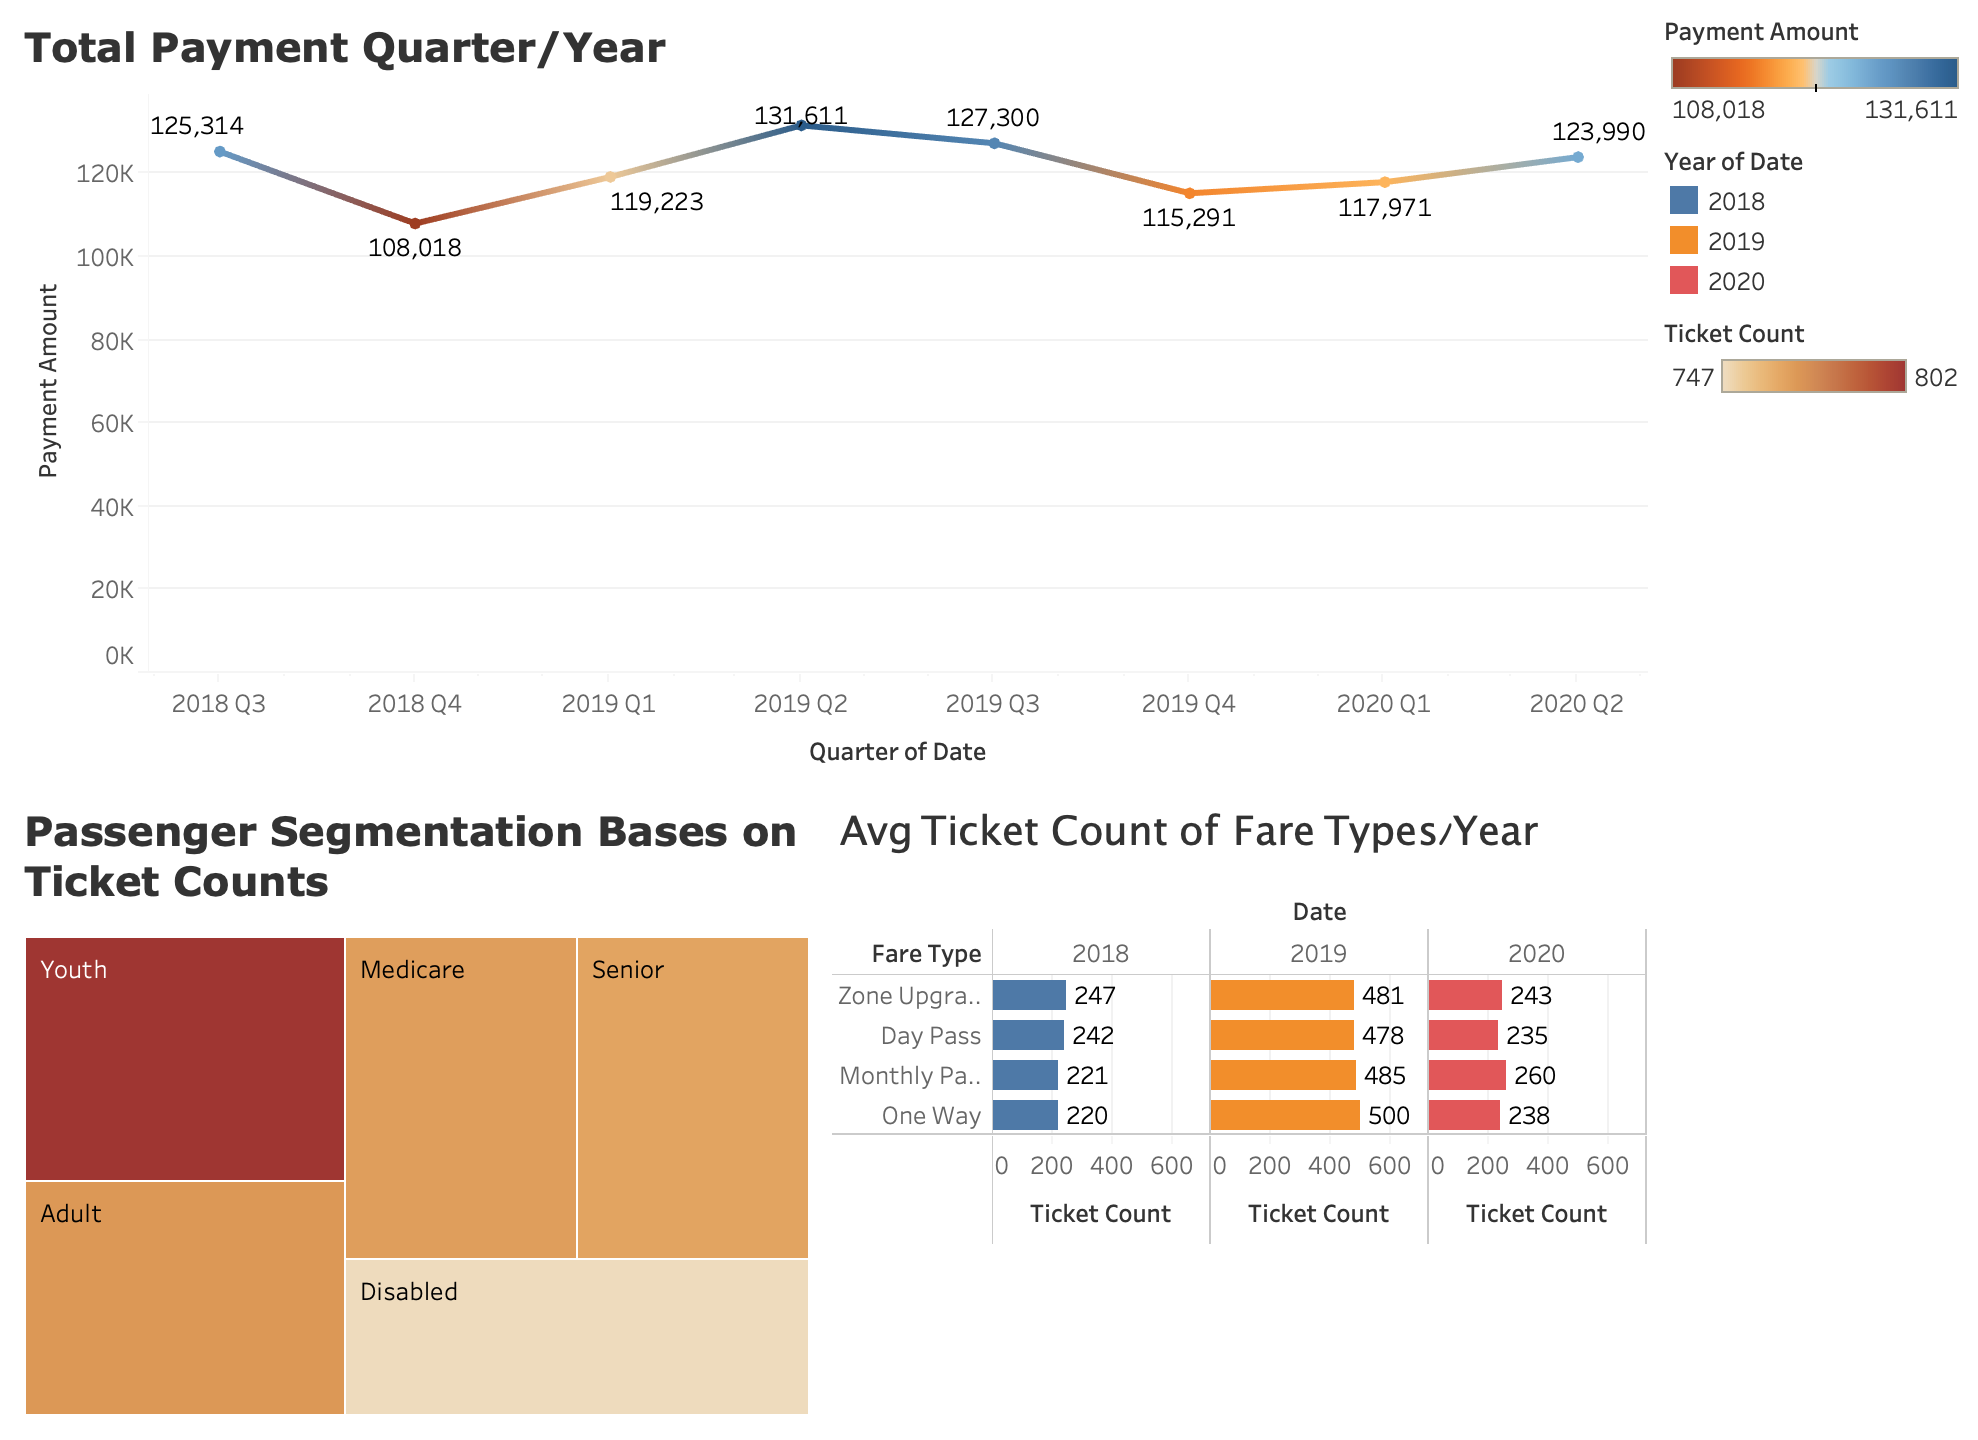

What the dashboard file says about the page in this screenshot:
{"tool":"tableau","page":{"name":"Lag measures","canvas":[1000,800],"ordinal":1},"visuals":[{"type":"worksheet","title":"Payment Amount","mark":"Automatic","rows":["payment_amount"],"cols":["date"],"box":[8,8,824,392]},{"type":"legend","title":"Payment Amount","param":"[federated.05aghn710ed6ll126rtaj13pjl3t].[sum:payment_amount:qk]","box":[832,8,160,65]},{"type":"legend","title":"Ticket Count of Fare Types","param":"[federated.05aghn710ed6ll126rtaj13pjl3t].[yr:date:ok]","box":[832,73,160,86]},{"type":"legend","title":"Passenger Segmentation","param":"[federated.05aghn710ed6ll126rtaj13pjl3t].[usr:Calculation_1807280506496876544:qk","box":[832,159,160,65]},{"type":"worksheet","title":"Passenger Segmentation","mark":"Automatic","box":[8,400,408,392]},{"type":"worksheet","title":"Ticket Count of Fare Types","mark":"Bar","rows":["fare_type"],"cols":["date","Calculation_1807280506496876544"],"box":[416,400,416,392]}]}

Visuals, with their boxes on the page's 1000x800 design canvas (x1, y1, x2, y2). These are canvas units, not pixel positions in the 1978x1440 screenshot, which may show the page scaled, cropped or inside an application window:
"Payment Amount" worksheet: select_region(8, 8, 832, 400)
"Payment Amount" legend: select_region(832, 8, 992, 73)
"Ticket Count of Fare Types" legend: select_region(832, 73, 992, 159)
"Passenger Segmentation" legend: select_region(832, 159, 992, 224)
"Passenger Segmentation" worksheet: select_region(8, 400, 416, 792)
"Ticket Count of Fare Types" worksheet (Bar marks): select_region(416, 400, 832, 792)
